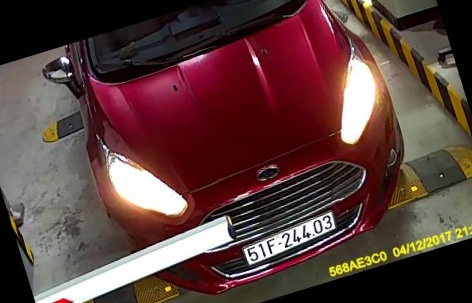plate: (238, 215, 339, 268)
